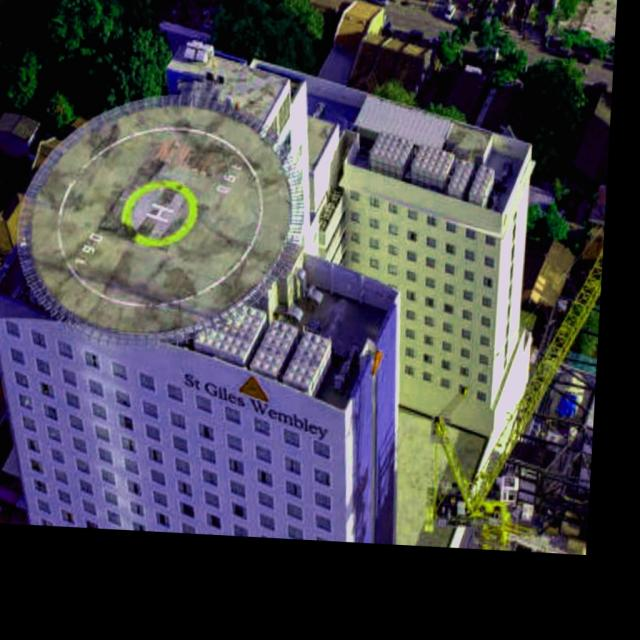helipad: (116, 176, 200, 248)
